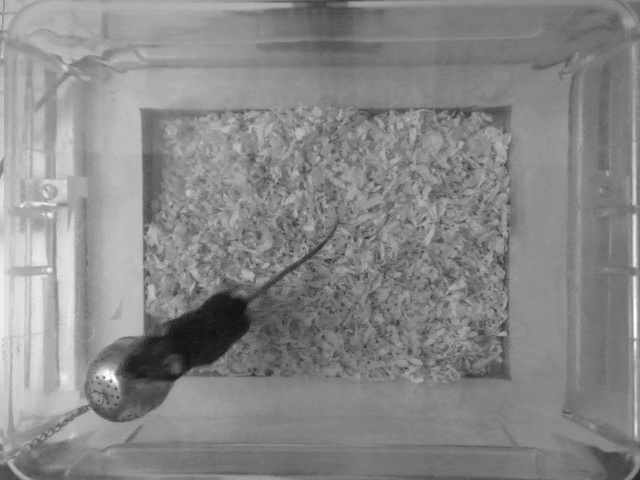mice: (120, 219, 340, 385)
